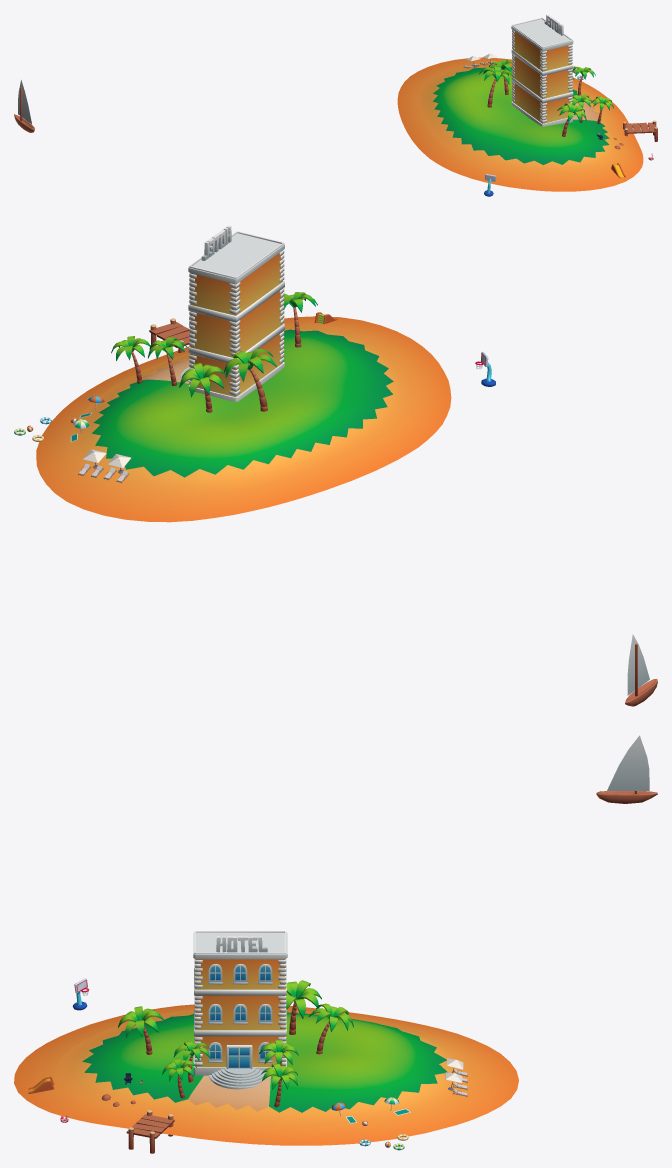
Rendered from beach_hotel.glb.
The picture shows the model from 3 angles, top to bottom: view 1: azimuth 30°, elevation 25°; view 2: azimuth 150°, elevation 25°; view 3: azimuth 270°, elevation 25°; orthographic projection. The views are drawn at different scales.
Visible parts, largest first — view 1: Retopo_Plane, Cube, Cube.002, Cylinder.011, Cylinder.004, Cylinder.003; view 2: Retopo_Plane, Cube, Cube.002, Cylinder.004, Cylinder, Cylinder.011; view 3: Retopo_Plane, Cube, Cube.002, Cylinder.011, Cylinder.004, Cylinder.003, Cylinder, Cylinder.006.
Boxes of the visible parts, x1,y1,x2,y2 form: Retopo_Plane: [397, 57, 643, 191]; Cube: [511, 14, 576, 126]; Cube.002: [14, 80, 34, 132]; Cylinder.011: [623, 120, 657, 141]; Cylinder.004: [479, 66, 513, 107]; Cylinder.003: [557, 103, 586, 136]; Retopo_Plane: [36, 316, 451, 522]; Cube: [181, 225, 284, 401]; Cube.002: [625, 634, 657, 706]; Cylinder.004: [224, 348, 276, 411]; Cylinder: [179, 363, 225, 412]; Cylinder.011: [149, 318, 190, 352]; Retopo_Plane: [14, 1004, 518, 1145]; Cube: [193, 931, 287, 1089]; Cube.002: [596, 735, 657, 803]; Cylinder.011: [126, 1110, 174, 1153]; Cylinder.004: [286, 980, 321, 1034]; Cylinder.003: [118, 1006, 163, 1054]; Cylinder: [308, 1003, 353, 1054]; Cylinder.006: [261, 1063, 297, 1107].
Size of what is drawn, in the model's own units: 170 by 37.39 by 132.
Materials: 8 (8 with a texture image).
